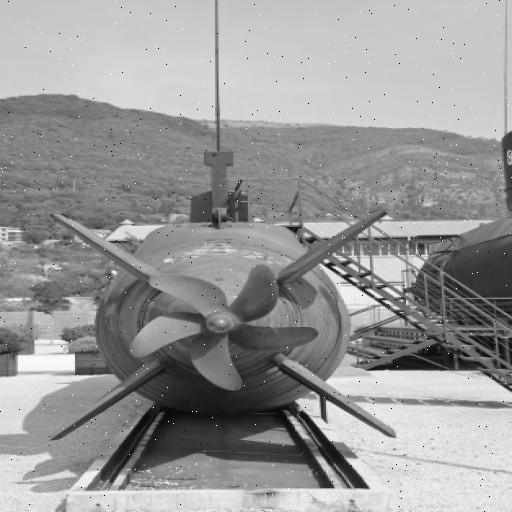submarine: (1, 141, 425, 437)
